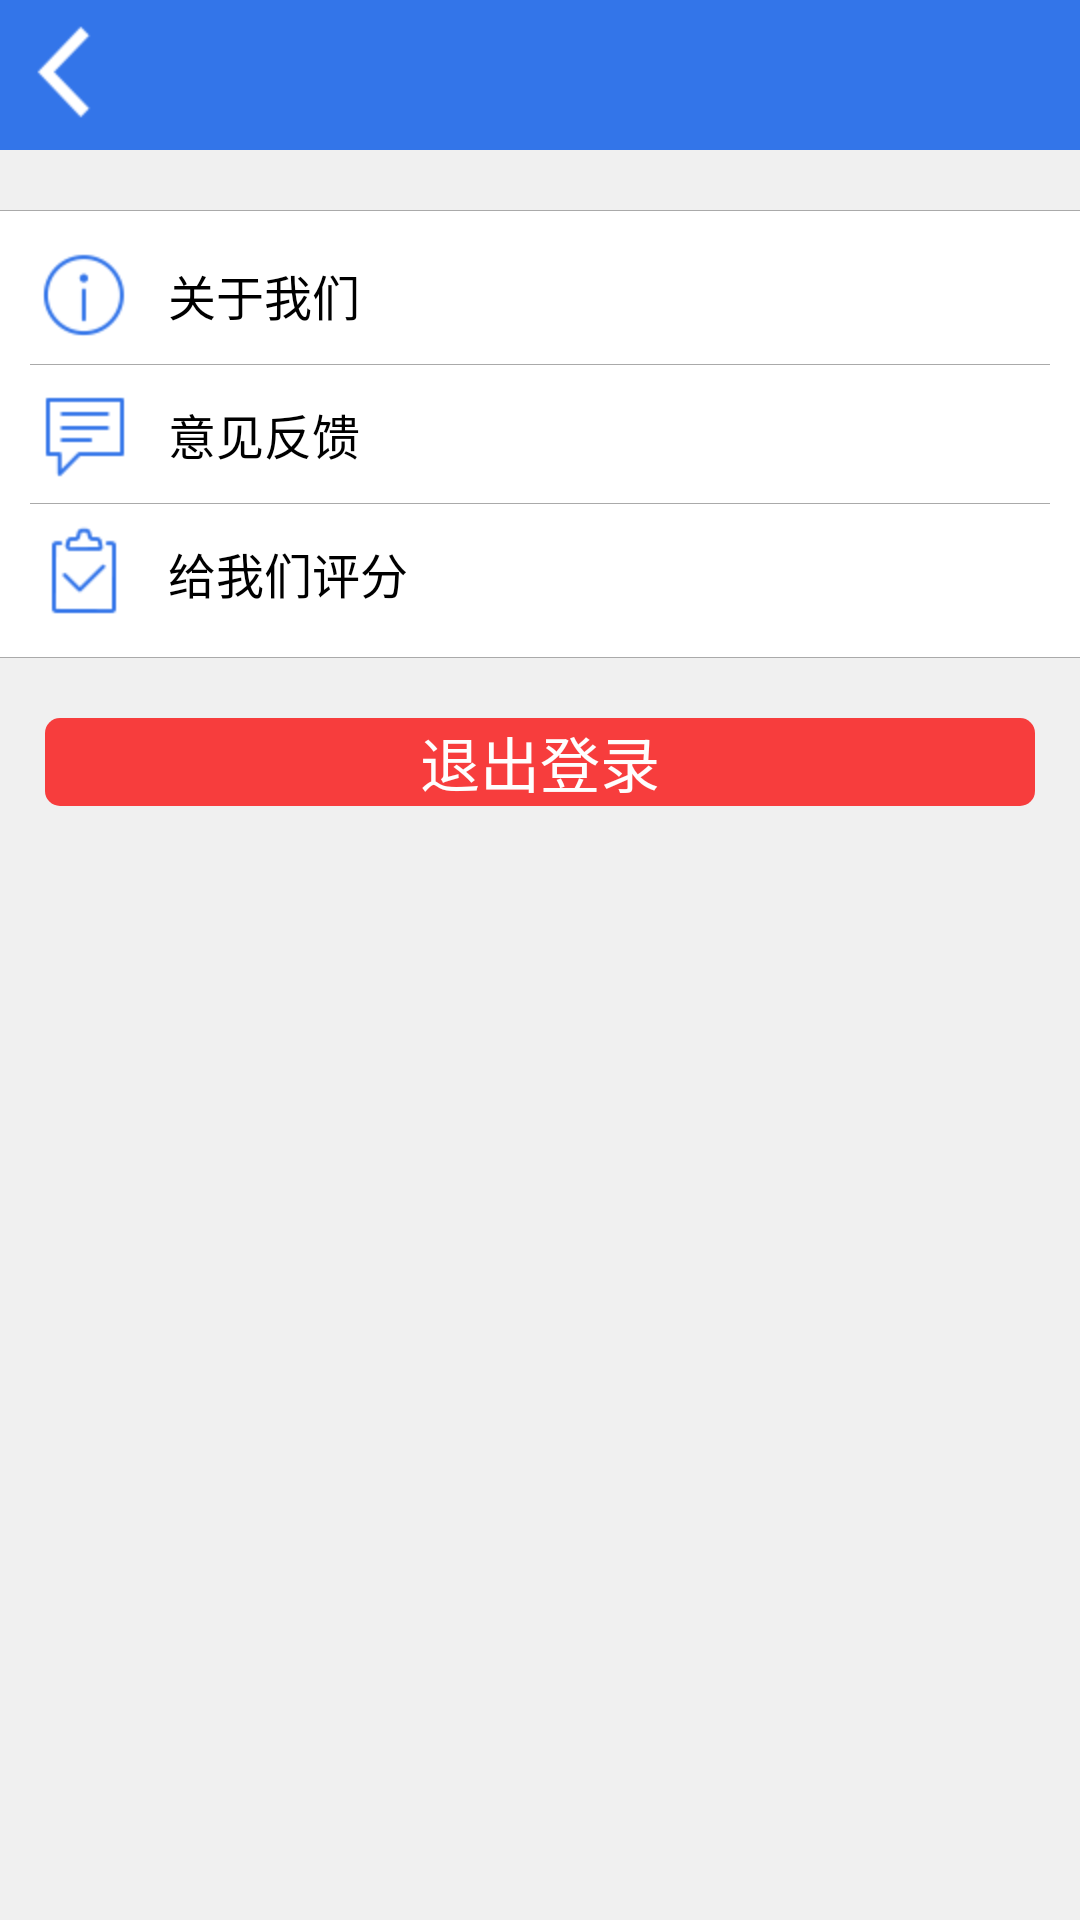

Named icons in this screenshot (1080w x 1920h) and their centers, (x=x, y=y):
back: (x=63, y=72)
guanyu: (x=84, y=295)
pingfeng: (x=84, y=570)
yijian: (x=85, y=437)
